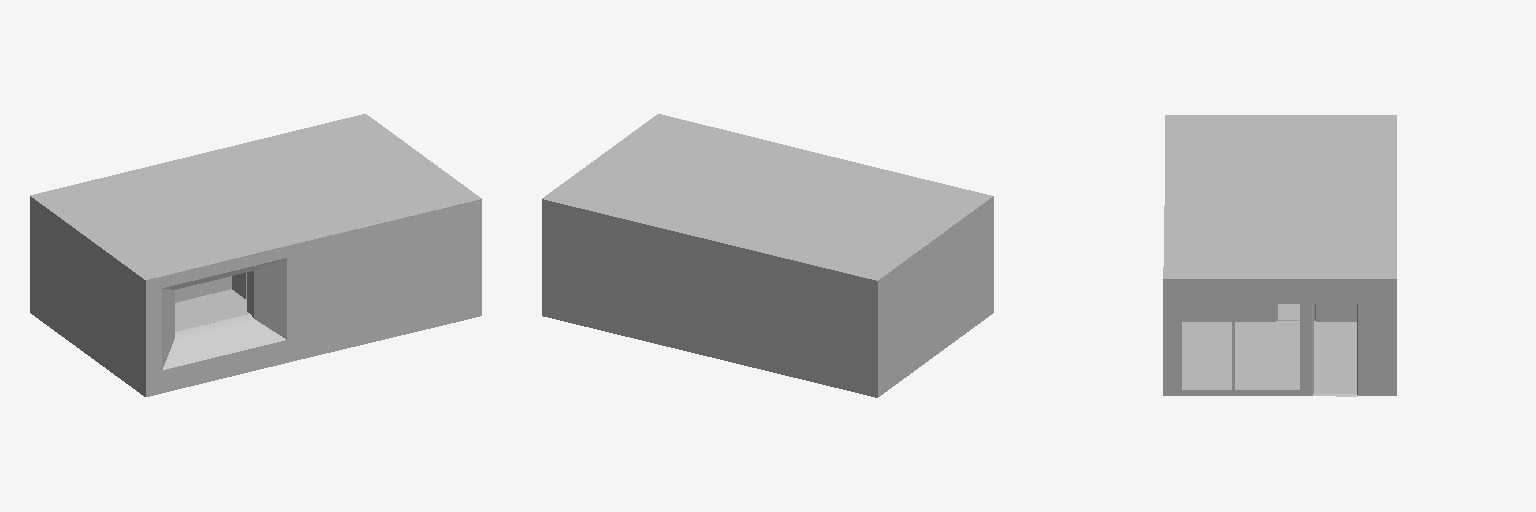
The model's file is walls1.obj.
3 views of the same model, side by side, from view 1: azimuth 30°, elevation 25°; view 2: azimuth 150°, elevation 25°; view 3: azimuth 270°, elevation 25° (orthographic).
Parts seen in each view (by area): view 1: window_mesh, floor_mesh, wall_mesh; view 2: window_mesh; view 3: window_mesh, floor_mesh, wall_mesh.
Boxes of the visible parts, <box> form: window_mesh: <box>30,114,481,396</box>; floor_mesh: <box>175,289,246,328</box>; wall_mesh: <box>175,272,249,331</box>; window_mesh: <box>542,114,993,397</box>; window_mesh: <box>1163,115,1396,395</box>; floor_mesh: <box>1182,304,1357,396</box>; wall_mesh: <box>1182,304,1357,395</box>.
Bounding box in the file's own units: 833 × 279 × 501.